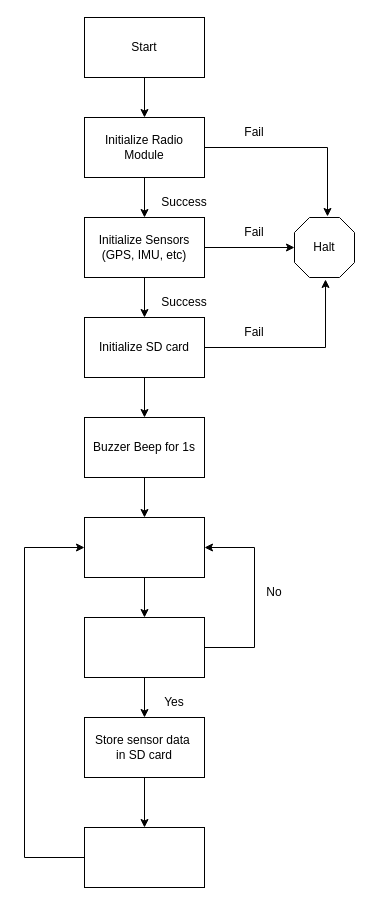
Some shapes in this 372 by 905 pixel diagram are drawn without their labels. Here are the shapes that lost their labels. From the top down, the box of each, then its label:
(84, 516, 204, 578): Sample Sensor Data
(84, 616, 204, 678): Is Sensor Data complete?
(84, 826, 204, 888): Send Sensor Data to Radio Module
